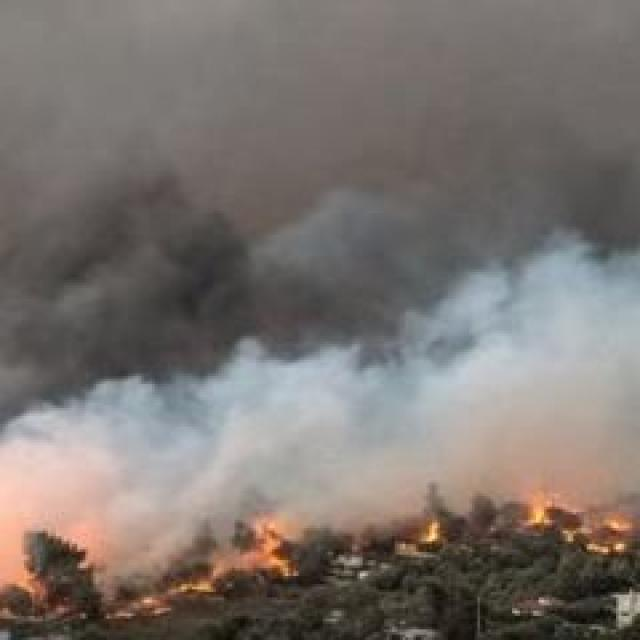Fire: (246, 516, 293, 586), (164, 567, 223, 602), (516, 489, 558, 532), (419, 514, 451, 548), (580, 535, 632, 554), (600, 514, 637, 529)
Smoke: (9, 0, 634, 558)
